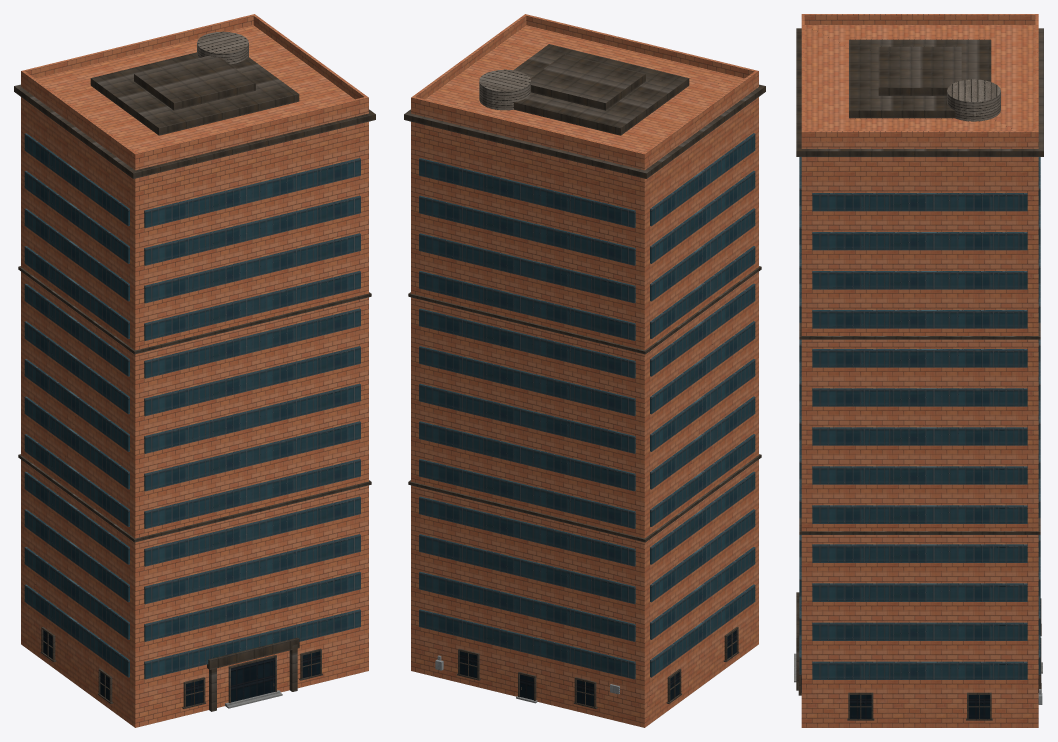
The model's file is michigan-avenue-deco_lod0.gltf.
3 renders of one model, left to right at view 1: azimuth 30°, elevation 25°; view 2: azimuth 150°, elevation 25°; view 3: azimuth 270°, elevation 25°, orthographic. The views are drawn at different scales.
Parts seen in each view (by area): view 1: michigan-avenue-deco_main, michigan-avenue-deco_fen_07-glass-curtain-blue_0, michigan-avenue-deco__crown_step_1, michigan-avenue-deco__crown_step_2, michigan-avenue-deco__cornice, michigan-avenue-deco_fen_07-glass-curtain-blue_2_t, michigan-avenue-deco__parapet_front, michigan-avenue-deco__parapet_back, michigan-avenue-deco__string_course_1, michigan-avenue-deco__string_course_2, michigan-avenue-deco_fen_12-bronze-metal_1, michigan-avenue-deco__parapet_left (+3 smaller); view 2: michigan-avenue-deco_main, michigan-avenue-deco_fen_07-glass-curtain-blue_0, michigan-avenue-deco__crown_step_1, michigan-avenue-deco__crown_step_2, michigan-avenue-deco__cornice, michigan-avenue-deco__parapet_back, michigan-avenue-deco__parapet_front, michigan-avenue-deco__water_tank, michigan-avenue-deco__string_course_1, michigan-avenue-deco__string_course_2, michigan-avenue-deco_fen_07-glass-curtain-blue_2_t, michigan-avenue-deco__parapet_left (+2 smaller); view 3: michigan-avenue-deco_main, michigan-avenue-deco_fen_07-glass-curtain-blue_0, michigan-avenue-deco__crown_step_1, michigan-avenue-deco__crown_step_2, michigan-avenue-deco__cornice, michigan-avenue-deco__parapet_left, michigan-avenue-deco__parapet_right, michigan-avenue-deco__water_tank, michigan-avenue-deco_fen_07-glass-curtain-blue_2_t, michigan-avenue-deco__string_course_1, michigan-avenue-deco__string_course_2, michigan-avenue-deco_fen_12-bronze-metal_1 (+2 smaller).
Boxes of the visible parts, x1,y1,x2,y2 form: michigan-avenue-deco_main: (21,25,368,727); michigan-avenue-deco_fen_07-glass-curtain-blue_0: (24,133,360,679); michigan-avenue-deco__crown_step_1: (90,52,299,135); michigan-avenue-deco__crown_step_2: (134,55,255,110); michigan-avenue-deco__cornice: (14,84,375,178); michigan-avenue-deco_fen_07-glass-curtain-blue_2_t: (43,630,320,706); michigan-avenue-deco__parapet_front: (133,96,368,163); michigan-avenue-deco__parapet_back: (21,14,255,80); michigan-avenue-deco__string_course_1: (18,454,371,542); michigan-avenue-deco__string_course_2: (18,266,371,354); michigan-avenue-deco_fen_12-bronze-metal_1: (40,627,322,708); michigan-avenue-deco__parapet_left: (22,71,135,162); michigan-avenue-deco_main: (411,25,758,727); michigan-avenue-deco_fen_07-glass-curtain-blue_0: (419,133,755,679); michigan-avenue-deco__crown_step_1: (513,44,689,135); michigan-avenue-deco__crown_step_2: (530,54,645,110); michigan-avenue-deco__cornice: (404,84,765,178); michigan-avenue-deco__parapet_back: (411,96,646,163); michigan-avenue-deco__parapet_front: (524,14,758,80); michigan-avenue-deco__water_tank: (479,69,530,110); michigan-avenue-deco__string_course_1: (408,454,761,542); michigan-avenue-deco__string_course_2: (408,266,761,354); michigan-avenue-deco_fen_07-glass-curtain-blue_2_t: (459,630,736,706); michigan-avenue-deco__parapet_left: (644,71,757,162); michigan-avenue-deco_main: (801,25,1038,727); michigan-avenue-deco_fen_07-glass-curtain-blue_0: (799,157,1040,679); michigan-avenue-deco__crown_step_1: (849,39,991,118); michigan-avenue-deco__crown_step_2: (878,46,961,95); michigan-avenue-deco__cornice: (796,28,1043,156); michigan-avenue-deco__parapet_left: (804,14,1035,24); michigan-avenue-deco__parapet_right: (804,131,1035,141); michigan-avenue-deco__water_tank: (947,79,1000,121); michigan-avenue-deco_fen_07-glass-curtain-blue_2_t: (801,674,1038,718); michigan-avenue-deco__string_course_1: (799,518,1040,534); michigan-avenue-deco__string_course_2: (799,323,1040,339); michigan-avenue-deco_fen_12-bronze-metal_1: (798,598,1041,720).
Size of the model in its own units: 27 by 62 by 23.2.
